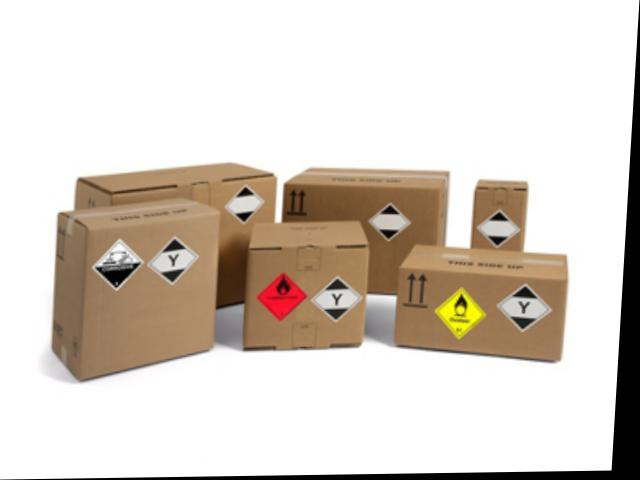package: (74, 159, 277, 326), (48, 196, 221, 380), (283, 163, 449, 293), (393, 242, 567, 363), (246, 219, 368, 352), (471, 176, 530, 307)
